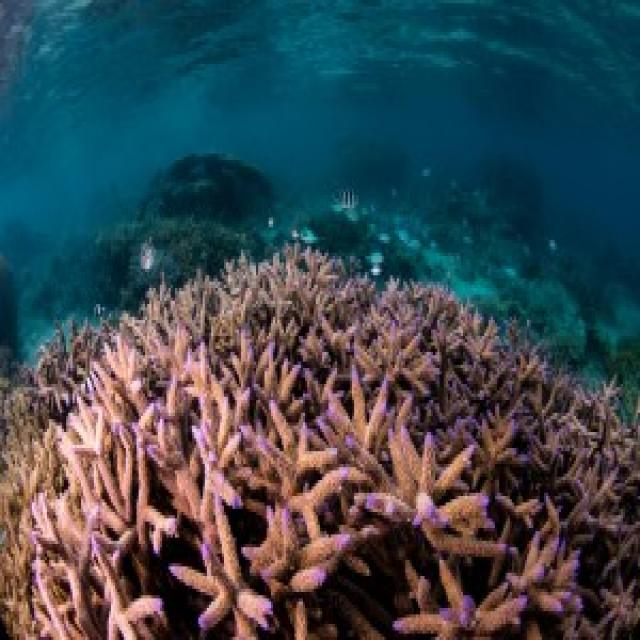Coral: (0, 242, 640, 640)
